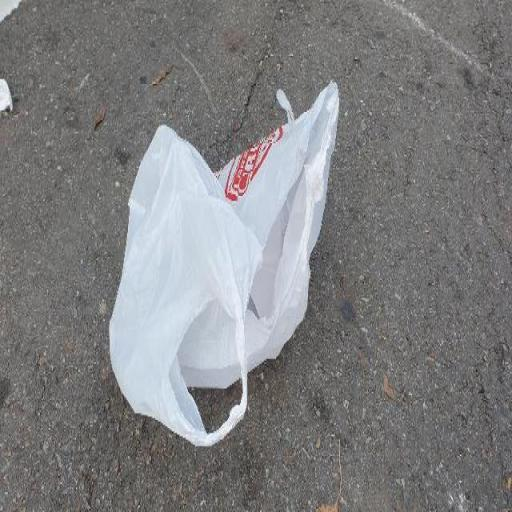plastic-bag: (108, 79, 342, 448)
